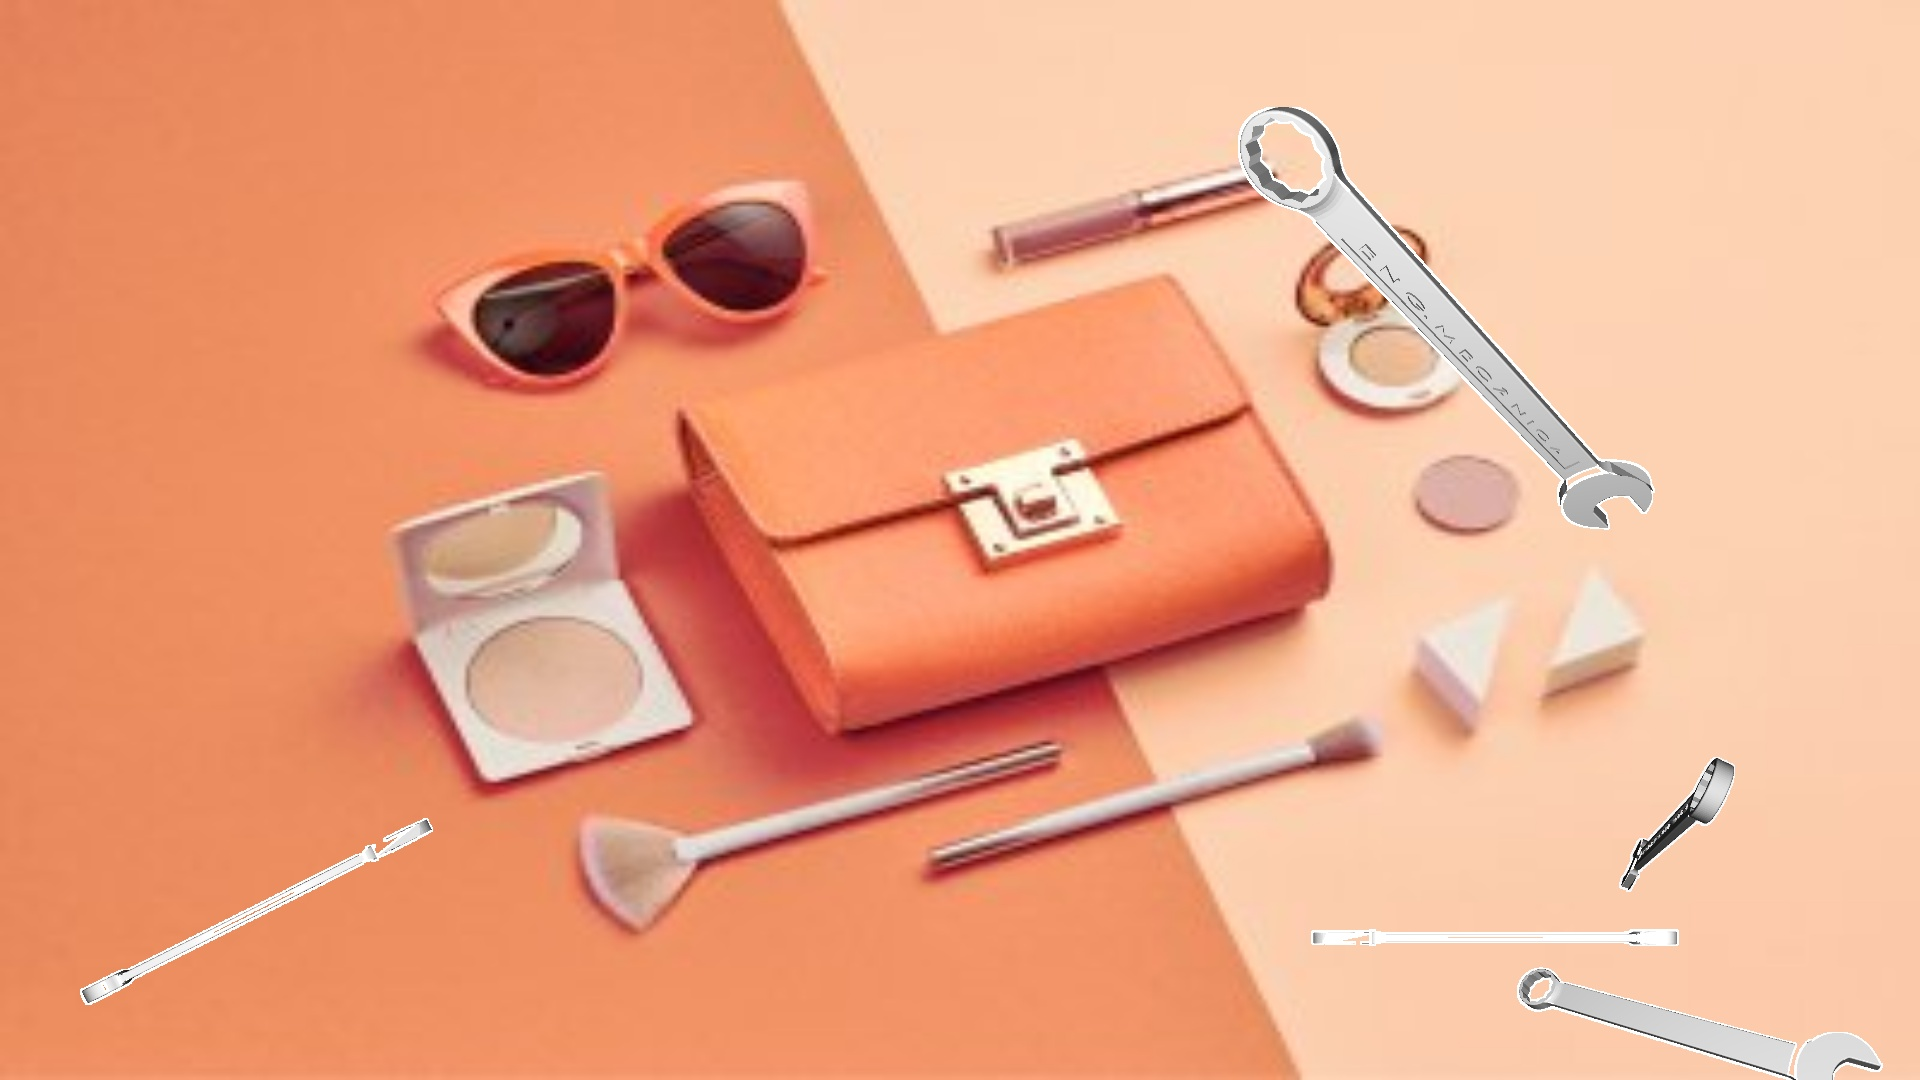Mixed Key: (1238, 107, 1654, 529), (80, 818, 433, 1004), (1516, 967, 1882, 1079), (1619, 757, 1734, 891), (1311, 928, 1677, 945)
